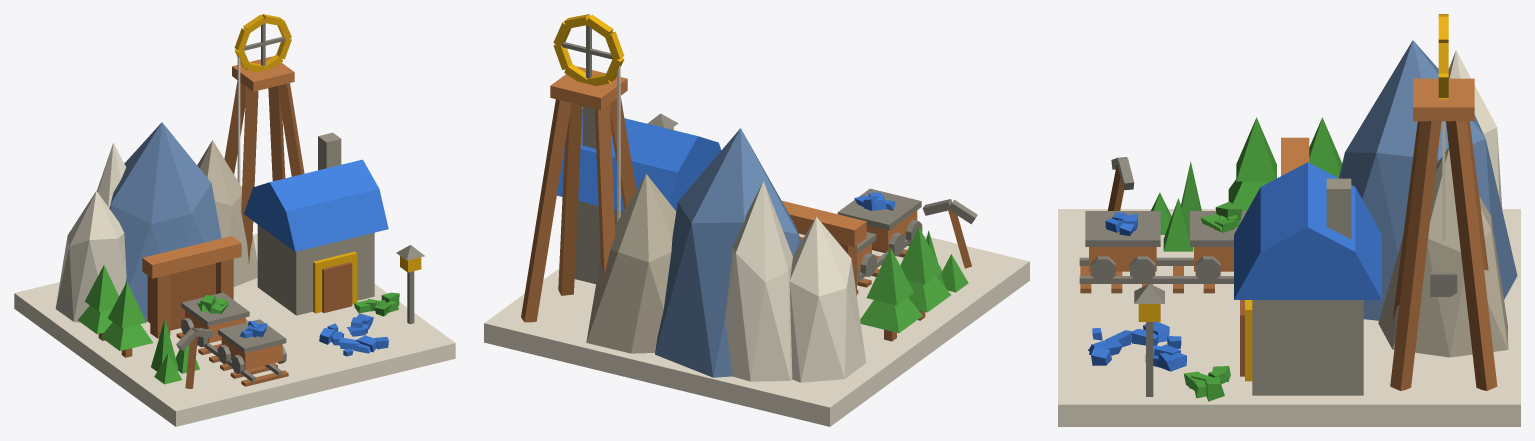
Rendered from mine_t3_v3.glb.
3 views of the same model, side by side, from view 1: azimuth 30°, elevation 25°; view 2: azimuth 150°, elevation 25°; view 3: azimuth 270°, elevation 25° (orthographic). The views are drawn at different scales.
Visible parts, largest first — view 1: mine_t3_v3; view 2: mine_t3_v3; view 3: mine_t3_v3.
Boxes of the visible parts, x1,y1,x2,y2 form: mine_t3_v3: (14,14,455,426); mine_t3_v3: (484,14,1029,426); mine_t3_v3: (1058,14,1520,426).
Size of the model in its own units: 0.75 by 0.6624 by 0.75.
1 material, 1 textured.
